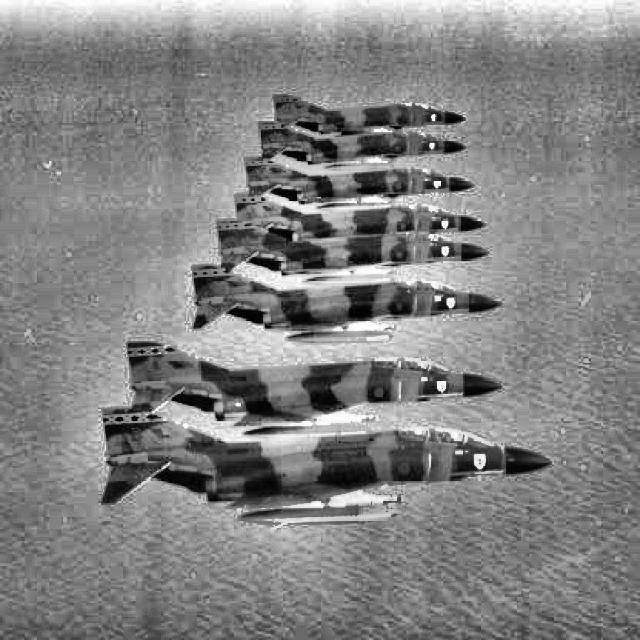F4: (100, 407, 555, 525), (126, 341, 505, 439), (190, 264, 502, 344), (215, 218, 491, 285), (243, 156, 474, 212), (235, 192, 487, 240), (257, 121, 466, 170), (273, 94, 465, 137)
